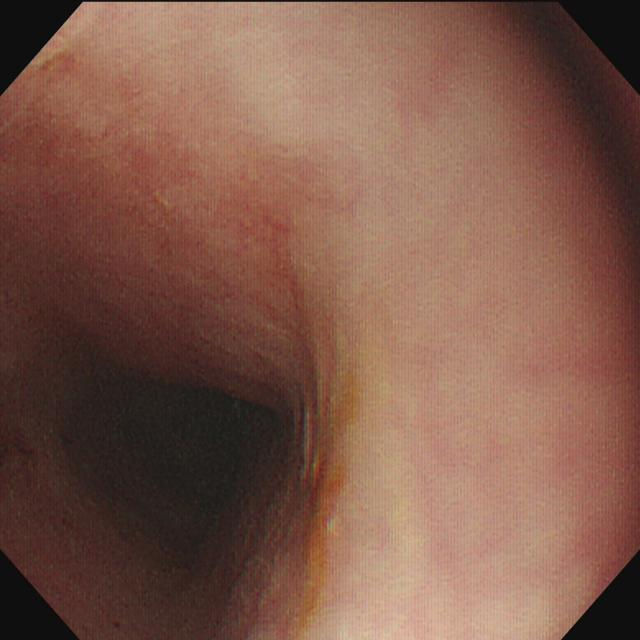E: (69, 342, 307, 581)
